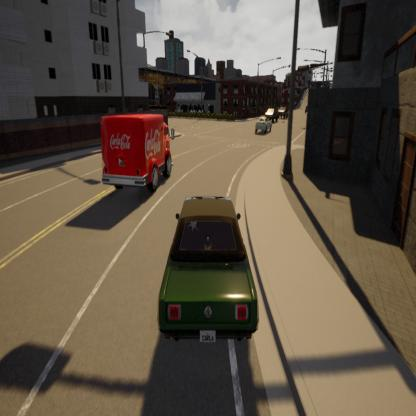Cars: (154, 184, 266, 353), (95, 108, 181, 202), (254, 116, 273, 137), (265, 106, 280, 125), (275, 102, 291, 119)
